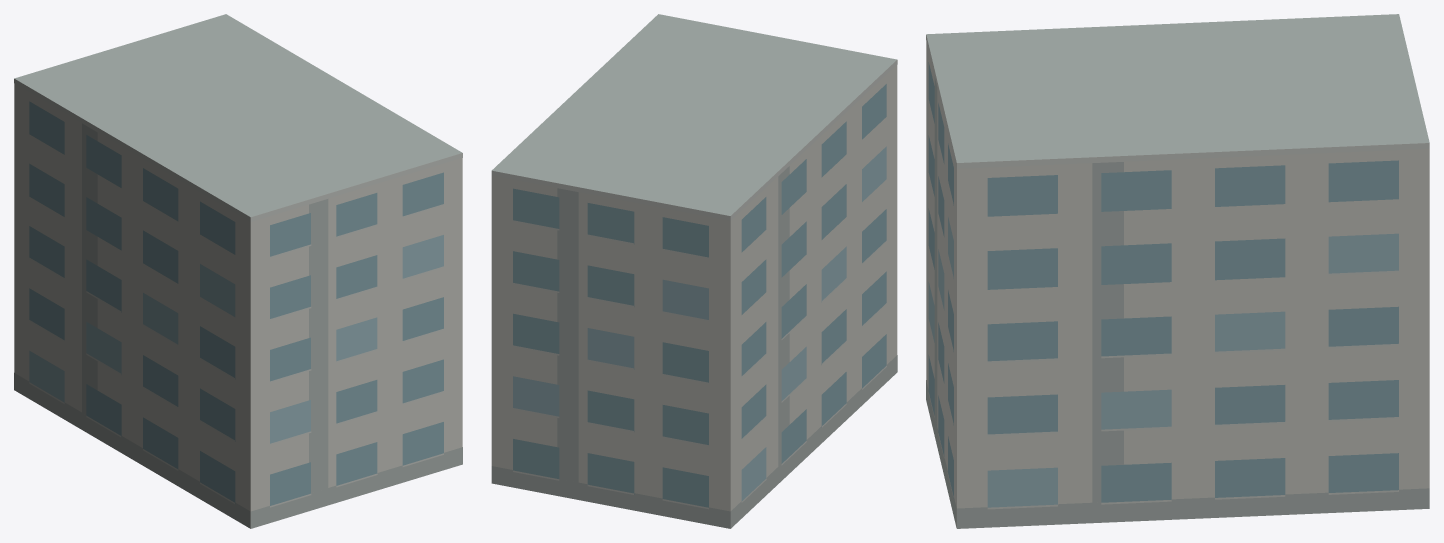
File: residential-513c44f4-c1b9-4b28-82d2-b42e118702ec.glb
The picture shows the model from 3 angles, left to right: view 1: azimuth 30°, elevation 25°; view 2: azimuth 150°, elevation 25°; view 3: azimuth 270°, elevation 25°; orthographic projection. The views are drawn at different scales.
Parts seen in each view (by area): view 1: residential-513c44f4-c1b9-4b28-82d2-b42e118702ec.tmp; view 2: residential-513c44f4-c1b9-4b28-82d2-b42e118702ec.tmp; view 3: residential-513c44f4-c1b9-4b28-82d2-b42e118702ec.tmp.
Boxes of the visible parts, left/top/right/bottom form: residential-513c44f4-c1b9-4b28-82d2-b42e118702ec.tmp: left=14, top=14, right=462, bottom=528; residential-513c44f4-c1b9-4b28-82d2-b42e118702ec.tmp: left=491, top=14, right=897, bottom=528; residential-513c44f4-c1b9-4b28-82d2-b42e118702ec.tmp: left=926, top=14, right=1429, bottom=528.
Bounding box in the file's own units: 13.34 × 15.25 × 19.04.
